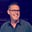face: (6, 2, 22, 21)
